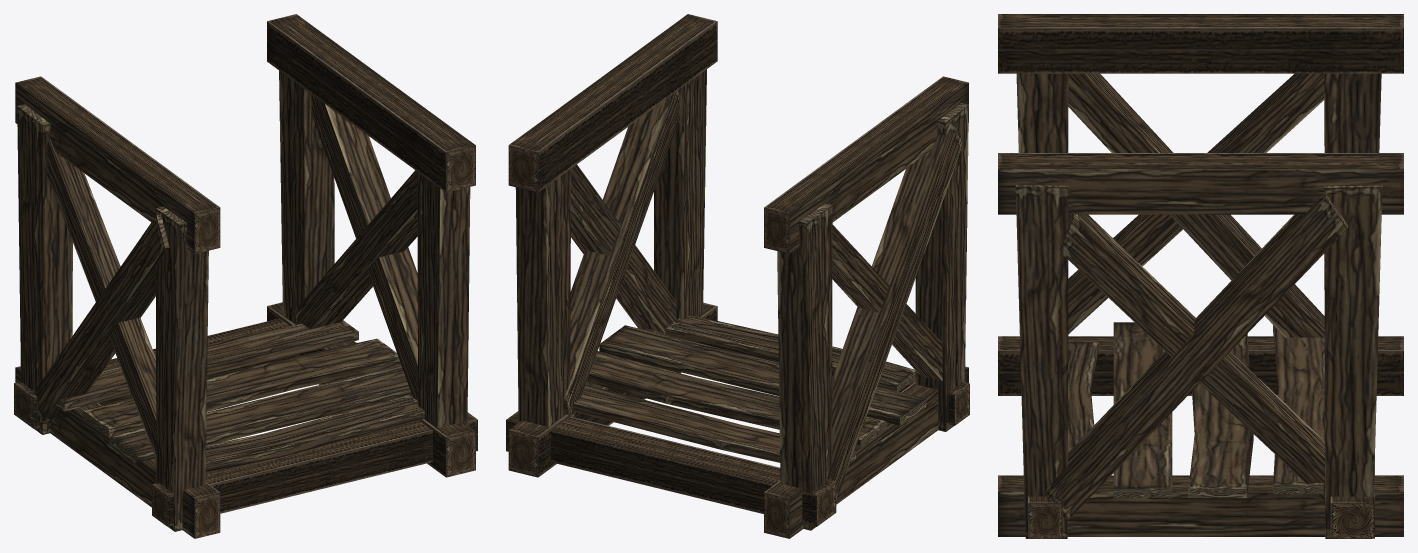
File: Bridge_4X4_02.fbx
The picture shows the model from 3 angles, left to right: view 1: azimuth 30°, elevation 25°; view 2: azimuth 150°, elevation 25°; view 3: azimuth 270°, elevation 25°; orthographic projection. The views are drawn at different scales.
Visible parts, largest first — view 1: Bridge_4X4_Side_04, Bridge_4X4_Side_03, Bridge_4X4_Deck_02; view 2: Bridge_4X4_Side_04, Bridge_4X4_Side_03, Bridge_4X4_Deck_02; view 3: Bridge_4X4_Side_03, Bridge_4X4_Side_04, Bridge_4X4_Deck_02.
Boxes of the visible parts, x1,y1,x2,y2 form: Bridge_4X4_Side_04: [15, 76, 220, 531]; Bridge_4X4_Side_03: [267, 14, 475, 427]; Bridge_4X4_Deck_02: [14, 302, 477, 538]; Bridge_4X4_Side_04: [764, 76, 968, 530]; Bridge_4X4_Side_03: [508, 14, 717, 426]; Bridge_4X4_Deck_02: [506, 302, 969, 538]; Bridge_4X4_Side_03: [998, 153, 1403, 538]; Bridge_4X4_Side_04: [998, 14, 1403, 337]; Bridge_4X4_Deck_02: [998, 322, 1403, 538].
Bounding box in the file's own units: 4 × 4 × 4.
